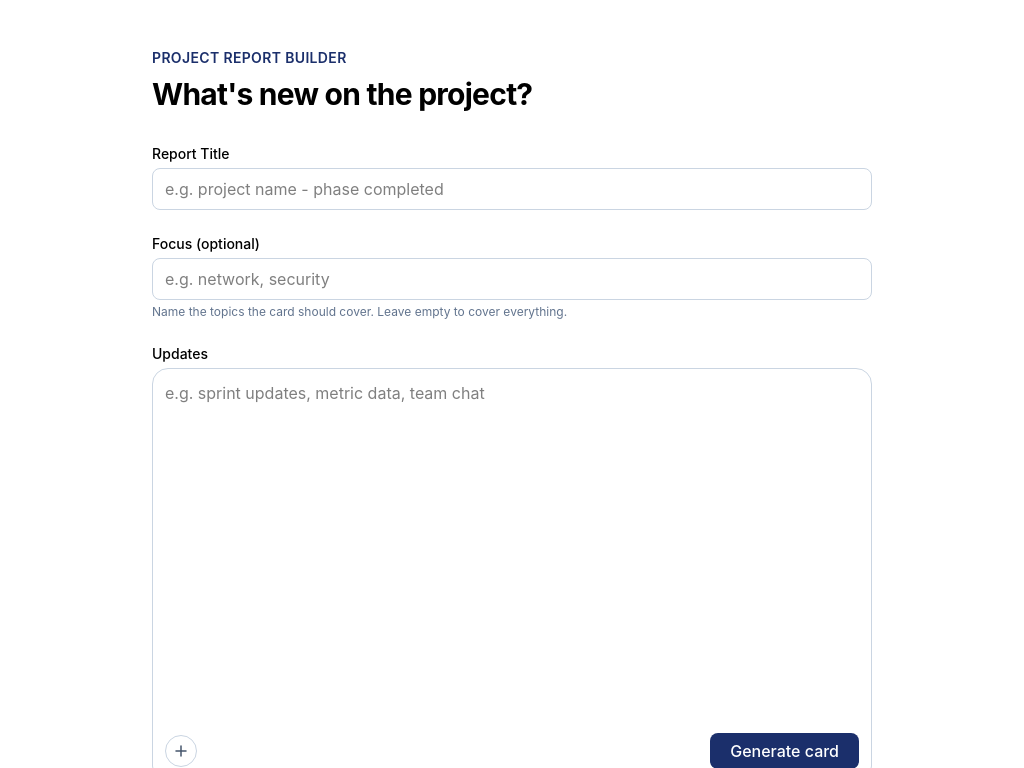
it: card flow › says it is writing and locks save and export until the blocks are done
Type "Atlas finished early." into the text box labelled "Updates" at (512, 554), box [165,381,859,727]
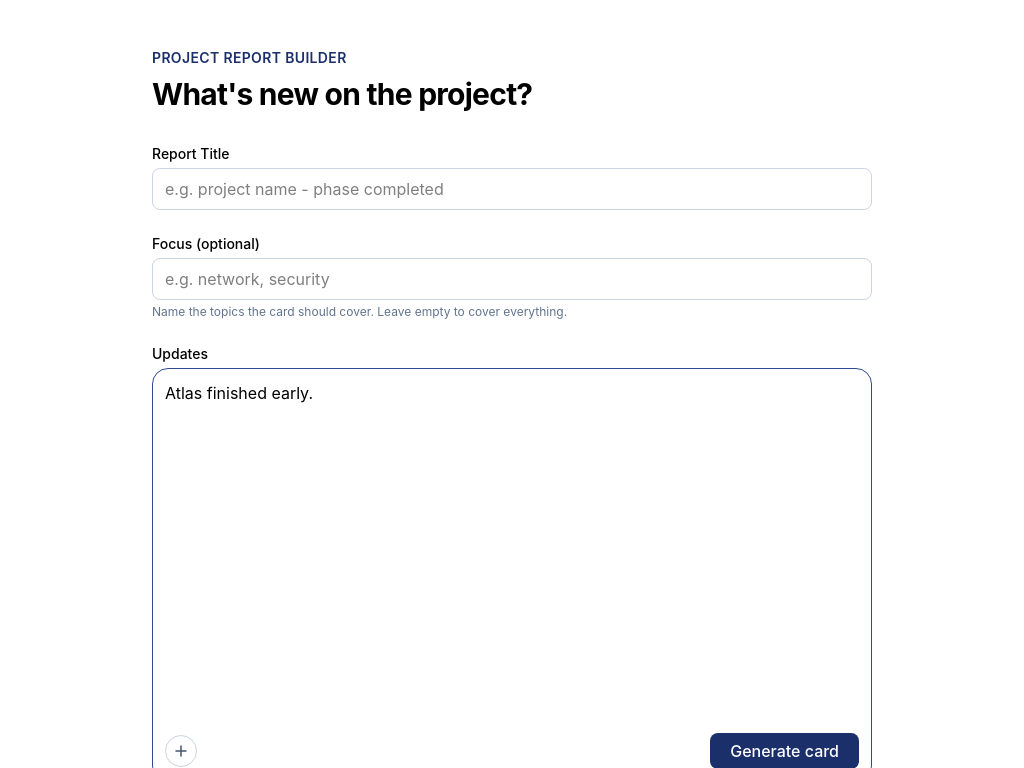
Click the button "Generate card" at (785, 751), box [710,733,859,767]
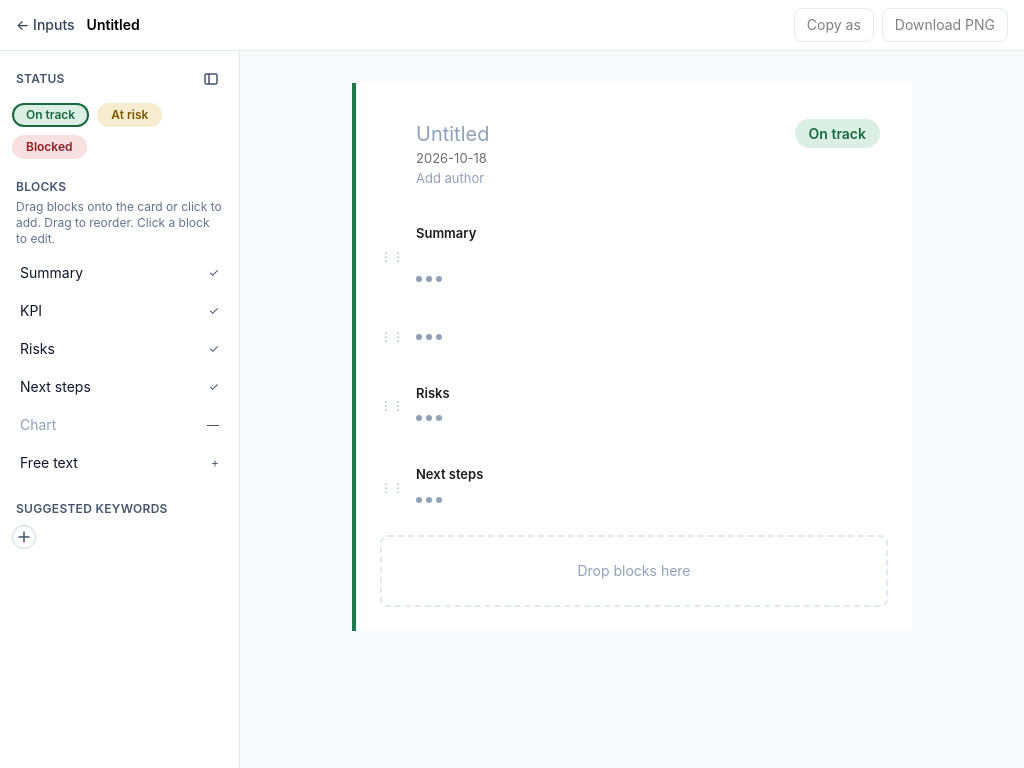
Check: the 1st message named "Writing" is shown, box [416,276,442,282]
Check: the button "Download PNG" is disabled, box [882,8,1008,42]
